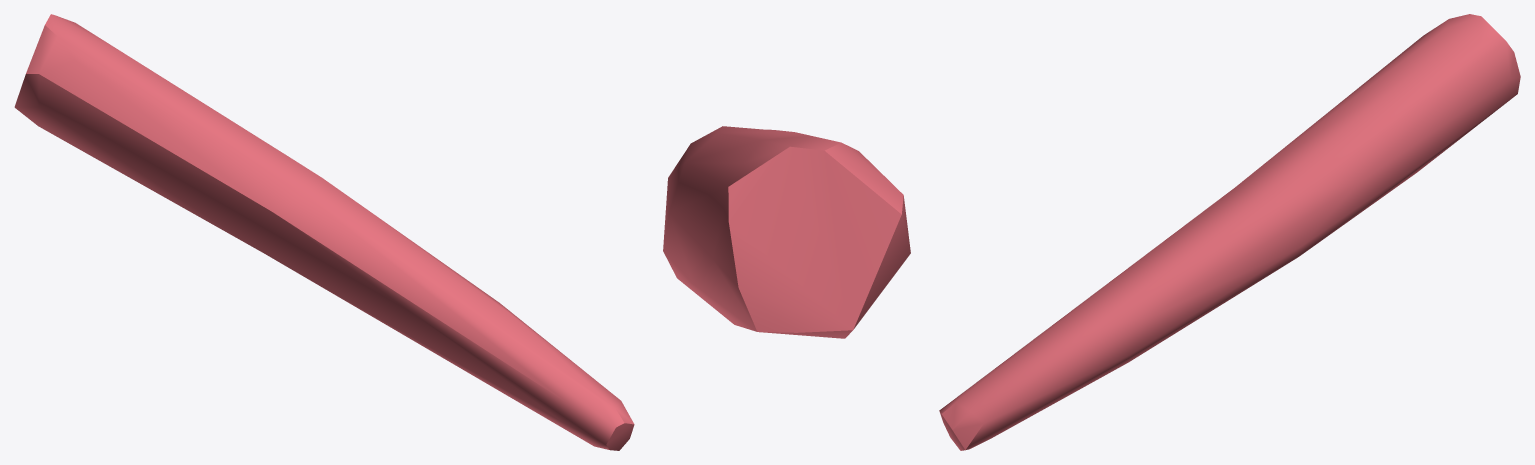
Rendered from fma68138_fj5957.glb.
The picture shows the model from 3 angles, left to right: view 1: azimuth 30°, elevation 25°; view 2: azimuth 150°, elevation 25°; view 3: azimuth 270°, elevation 25°; orthographic projection. The views are drawn at different scales.
Visible parts, largest first — view 1: FMA68138_FJ5957; view 2: FMA68138_FJ5957; view 3: FMA68138_FJ5957.
Boxes of the visible parts, x1,y1,x2,y2 form: FMA68138_FJ5957: (14, 14, 634, 450); FMA68138_FJ5957: (663, 126, 910, 338); FMA68138_FJ5957: (939, 14, 1520, 450).
Bounding box in the file's own units: 0.0124 × 0.0105 × 0.0187.
